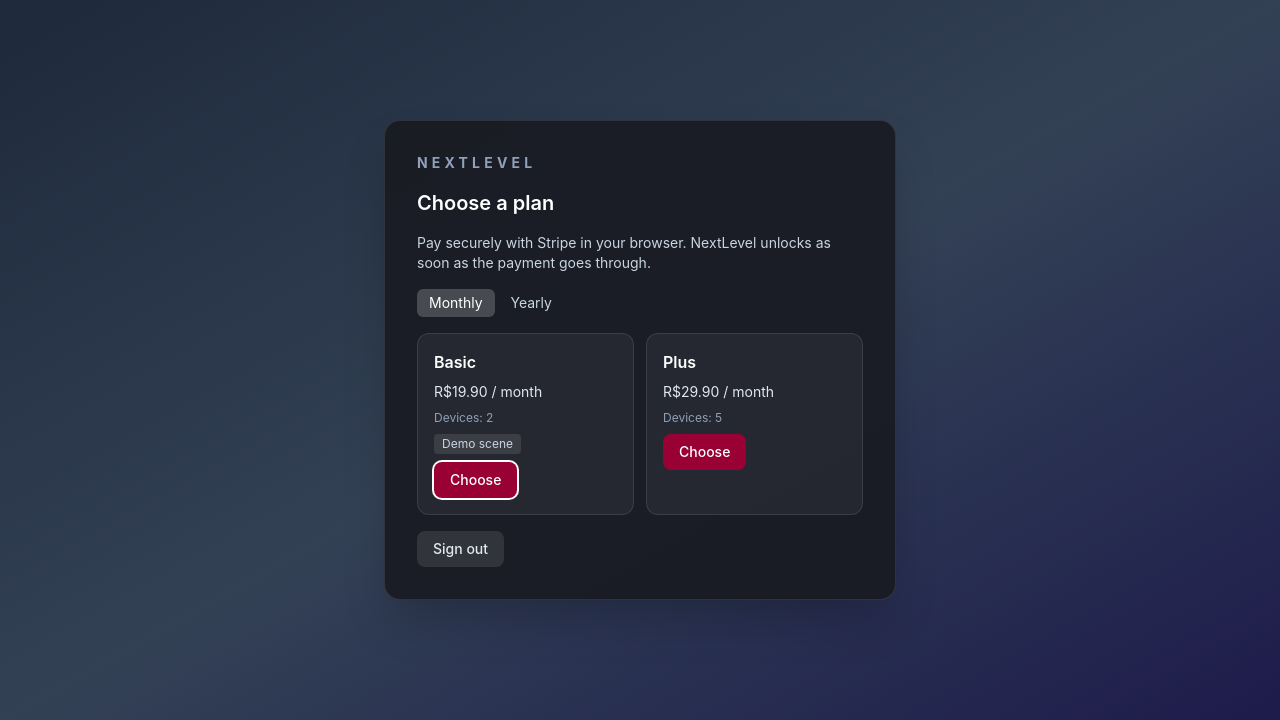
Test: S3 Subscribe (US-A2, FR-AUTH-3) › a failed checkout is explained
Click the button with aria-label "Choose Basic".
click(476, 480)  # box [434,462,517,498]
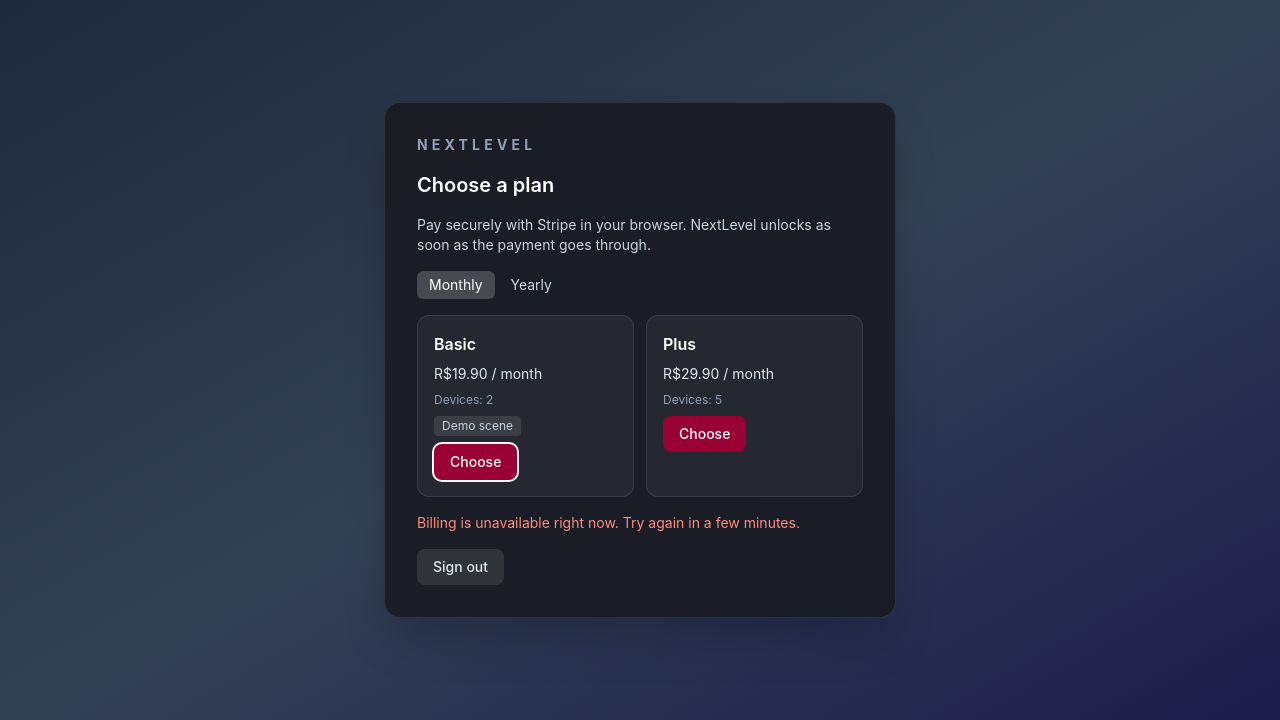
Now the message shows "Billing is unavailable", box [417,514,800,531]
